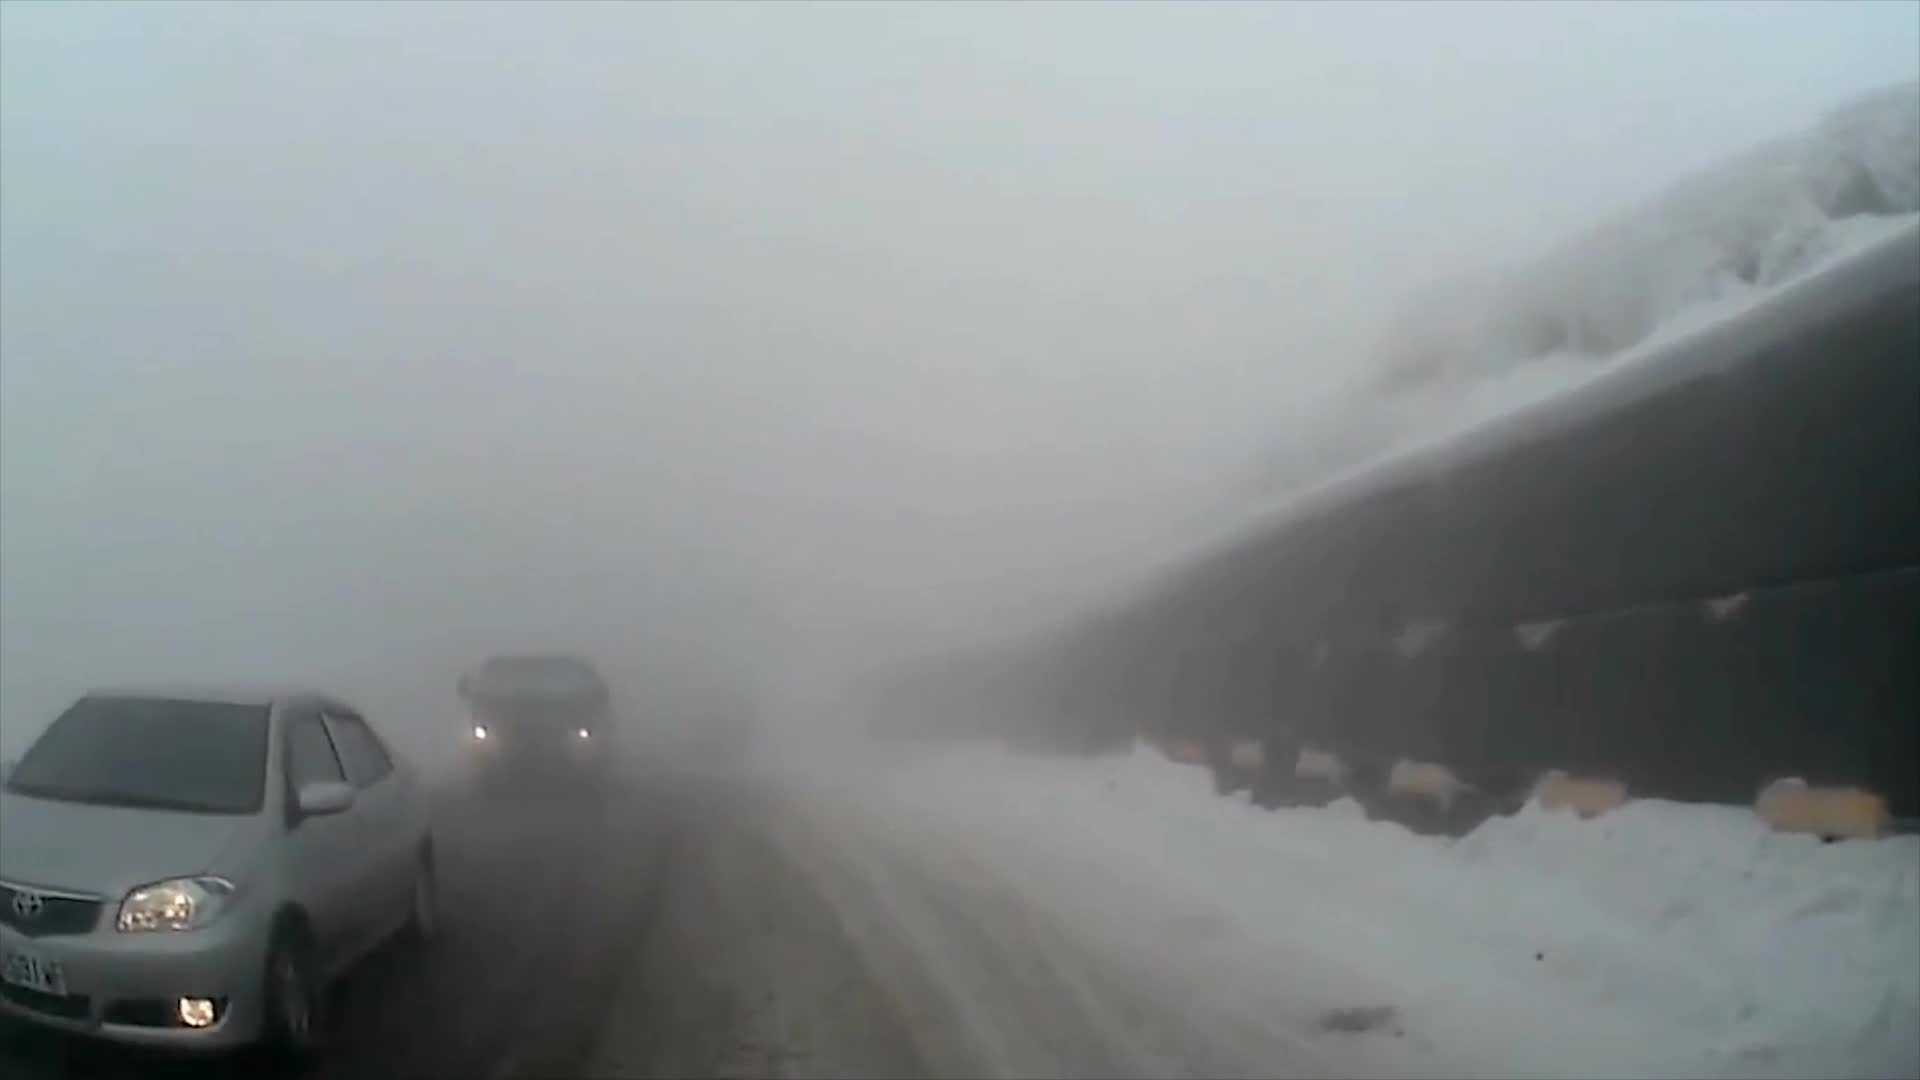vehicle: (0, 680, 444, 1073), (455, 650, 617, 791)
